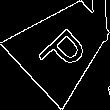P_NE: (33, 15, 94, 77)
